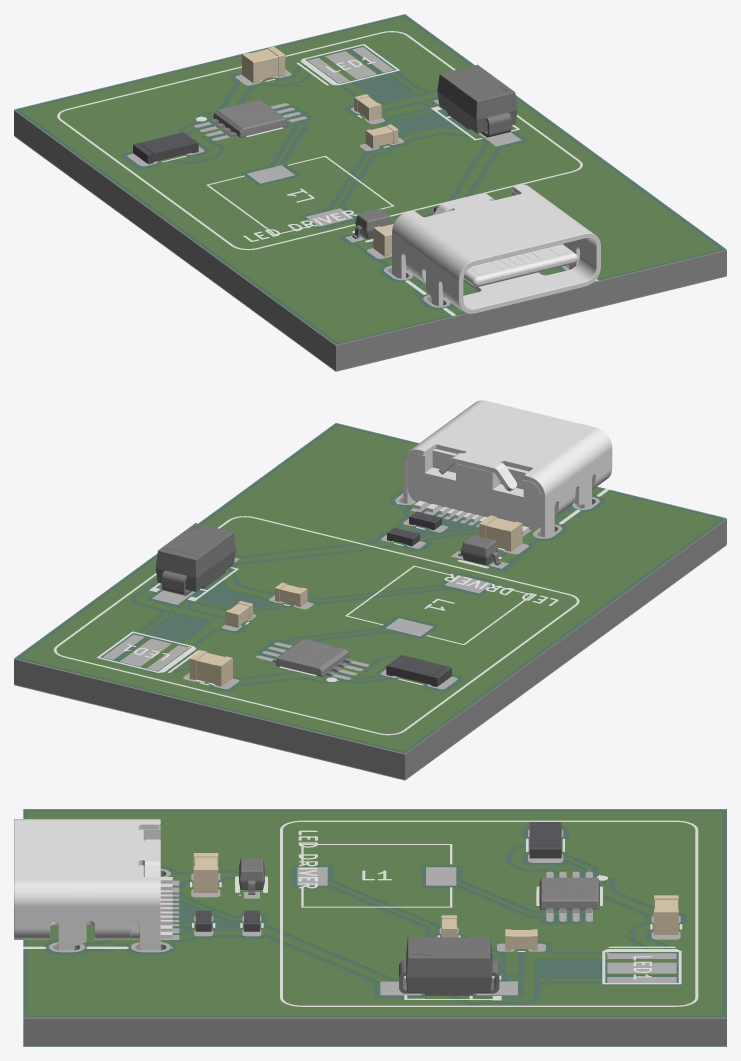
Rendered from board.glb.
3 renders of one model, top to bottom at view 1: azimuth 30°, elevation 25°; view 2: azimuth 150°, elevation 25°; view 3: azimuth 270°, elevation 25°, orthographic. The views are drawn at different scales.
Parts seen in each view (by area): view 1: =>[0:1:1:15], =>[0:1:1:10], =>[0:1:1:17], J1, =>[0:1:1:13], =>[0:1:1:11], D2, U1, R3, C3, =>[0:1:1:16], D1 (+1 smaller); view 2: =>[0:1:1:15], =>[0:1:1:10], =>[0:1:1:17], J1, =>[0:1:1:11], =>[0:1:1:13], D2, U1, R3, C3, C1, =>[0:1:1:16] (+2 smaller); view 3: =>[0:1:1:15], =>[0:1:1:10], =>[0:1:1:17], J1, =>[0:1:1:13], =>[0:1:1:11], D2, U1, R3, C1, C3, D1 (+2 smaller).
Boxes of the visible parts, left/top/right/bottom form: =>[0:1:1:15]: left=14, top=14, right=726, bottom=344; =>[0:1:1:10]: left=21, top=18, right=719, bottom=342; =>[0:1:1:17]: left=14, top=15, right=726, bottom=370; J1: left=392, top=184, right=600, bottom=314; =>[0:1:1:13]: left=57, top=31, right=598, bottom=315; =>[0:1:1:11]: left=127, top=47, right=569, bottom=307; D2: left=437, top=64, right=517, bottom=137; U1: left=210, top=99, right=290, bottom=137; R3: left=133, top=132, right=198, bottom=164; C3: left=242, top=46, right=285, bottom=82; =>[0:1:1:16]: left=14, top=136, right=726, bottom=371; D1: left=352, top=209, right=392, bottom=238; =>[0:1:1:15]: left=14, top=423, right=726, bottom=753; =>[0:1:1:10]: left=21, top=426, right=719, bottom=750; =>[0:1:1:17]: left=14, top=424, right=726, bottom=779; J1: left=403, top=400, right=612, bottom=537; =>[0:1:1:11]: left=102, top=493, right=599, bottom=689; =>[0:1:1:13]: left=53, top=488, right=609, bottom=735; D2: left=155, top=523, right=235, bottom=595; U1: left=272, top=639, right=352, bottom=676; R3: left=386, top=655, right=451, bottom=686; C3: left=189, top=650, right=232, bottom=686; C1: left=479, top=515, right=522, bottom=551; =>[0:1:1:16]: left=14, top=545, right=726, bottom=780; =>[0:1:1:15]: left=23, top=809, right=726, bottom=1017; =>[0:1:1:10]: left=28, top=812, right=721, bottom=1015; =>[0:1:1:17]: left=23, top=810, right=726, bottom=1045; J1: left=14, top=819, right=172, bottom=950; =>[0:1:1:13]: left=23, top=820, right=698, bottom=1006; =>[0:1:1:11]: left=49, top=829, right=680, bottom=995; D2: left=399, top=937, right=499, bottom=995; U1: left=539, top=877, right=599, bottom=912; R3: left=529, top=822, right=561, bottom=858; C1: left=193, top=853, right=218, bottom=892; C3: left=653, top=895, right=678, bottom=934; D1: left=239, top=858, right=264, bottom=894.
Bounding box in the file's own units: 0.0246 × 0.00492 × 0.0355.
